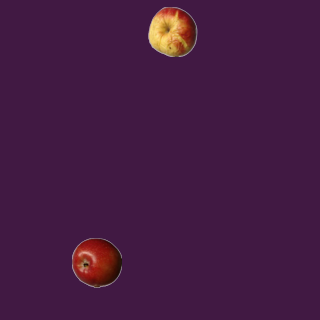Apple Braeburn: (71, 237, 121, 287)
Apple Red Yellow 1: (147, 6, 197, 56)
